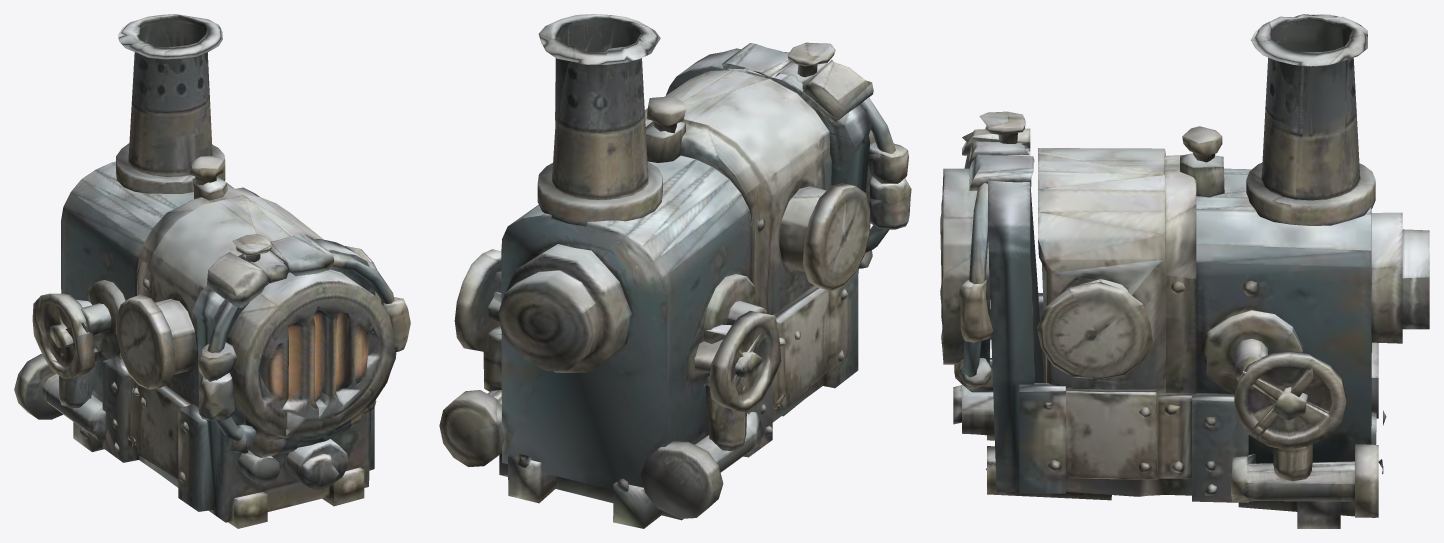
File: vehicle_part_sled_engine.glb
The picture shows the model from 3 angles, left to right: view 1: azimuth 30°, elevation 25°; view 2: azimuth 150°, elevation 25°; view 3: azimuth 270°, elevation 25°; orthographic projection. The views are drawn at different scales.
Size of the model in its own units: 0.1465 by 0.228 by 0.2202.
1 material, 1 textured.
